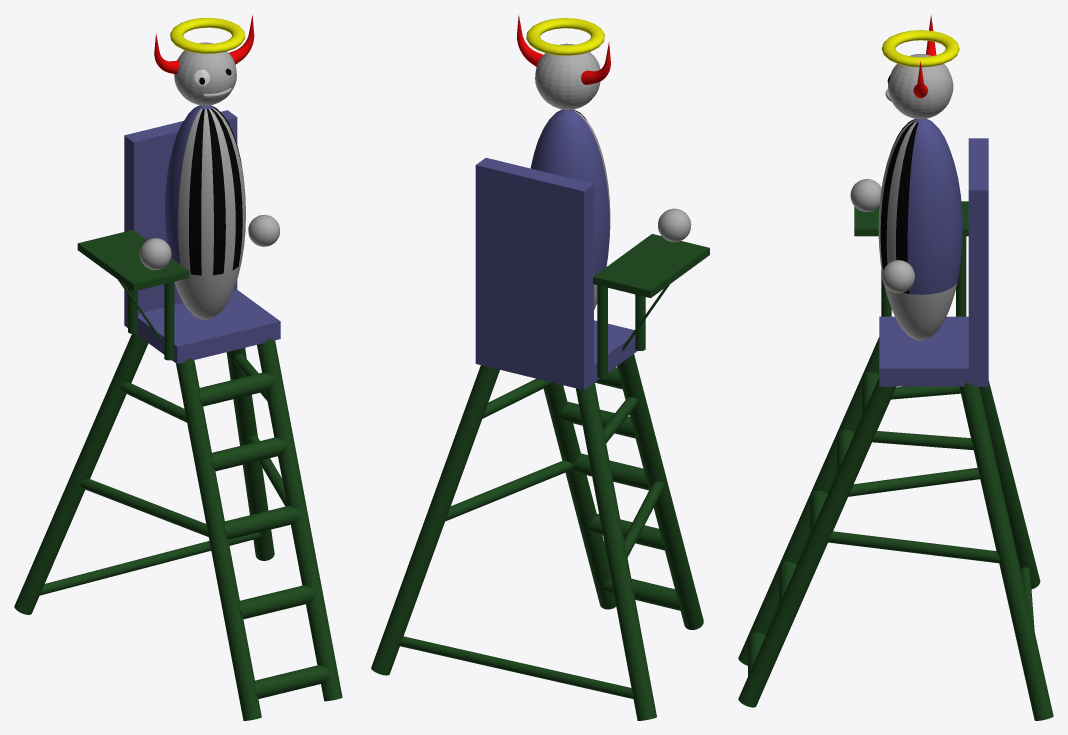
Rendered from Judge.fbx.
3 renders of one model, left to right at view 1: azimuth 30°, elevation 25°; view 2: azimuth 150°, elevation 25°; view 3: azimuth 270°, elevation 25°, orthographic. The views are drawn at different scales.
Parts seen in each view (by area): view 1: Judge_On_Chair; view 2: Judge_On_Chair; view 3: Judge_On_Chair.
Boxes of the visible parts, left/top/right/bottom form: Judge_On_Chair: left=14, top=14, right=342, bottom=720; Judge_On_Chair: left=371, top=14, right=709, bottom=720; Judge_On_Chair: left=738, top=14, right=1053, bottom=720.
Size of the model in its own units: 160 by 363 by 160.
